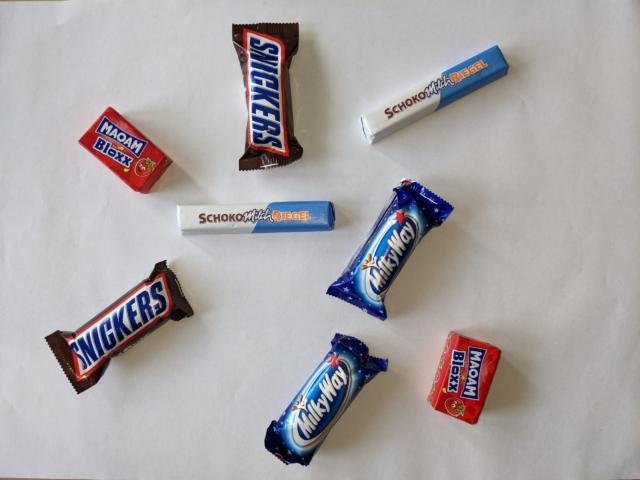MAOAM: (72, 103, 176, 196), (421, 328, 506, 429)
MilkyWay: (322, 176, 458, 324), (261, 330, 394, 471)
Schokoriegel: (352, 44, 513, 150), (173, 198, 337, 239)
Snickers: (40, 257, 197, 398), (228, 21, 306, 175)
